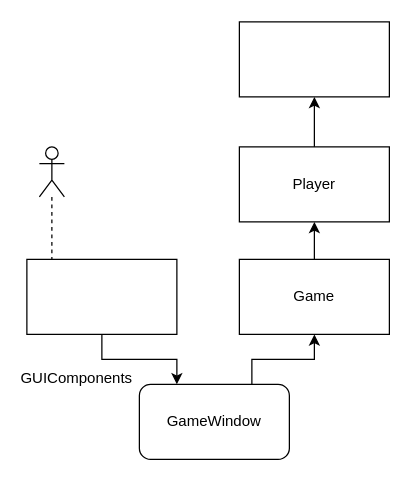
Image size: 411x481. Some labels were removed from this diagram. The centre of each missing label's shape, as x and y in pixels:
AttackBoard: point (313, 59)
AttackGrid: point (101, 296)
